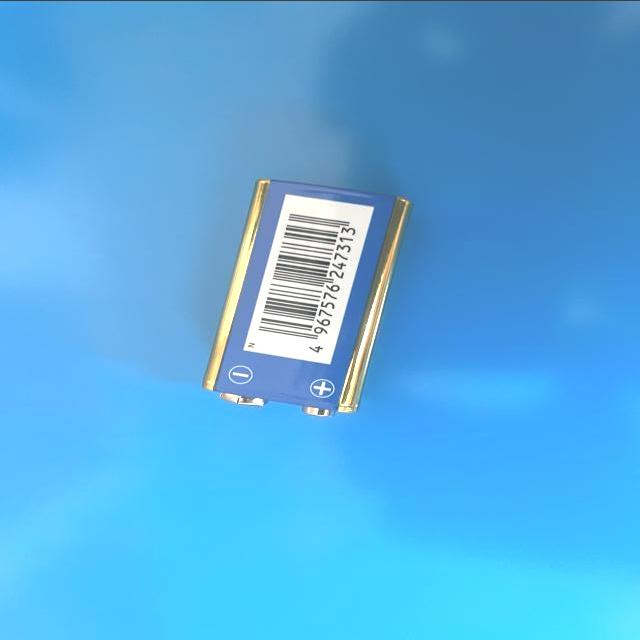9V: (199, 179, 414, 416)
